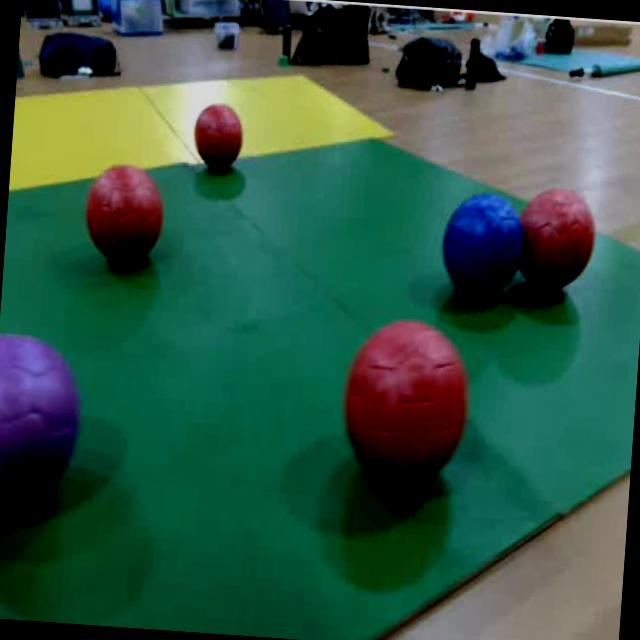blue_ball: (434, 188, 525, 316)
purple_ball: (0, 326, 87, 515)
red_ball: (336, 312, 471, 496), (81, 156, 167, 269), (520, 185, 600, 303), (189, 99, 246, 178)
